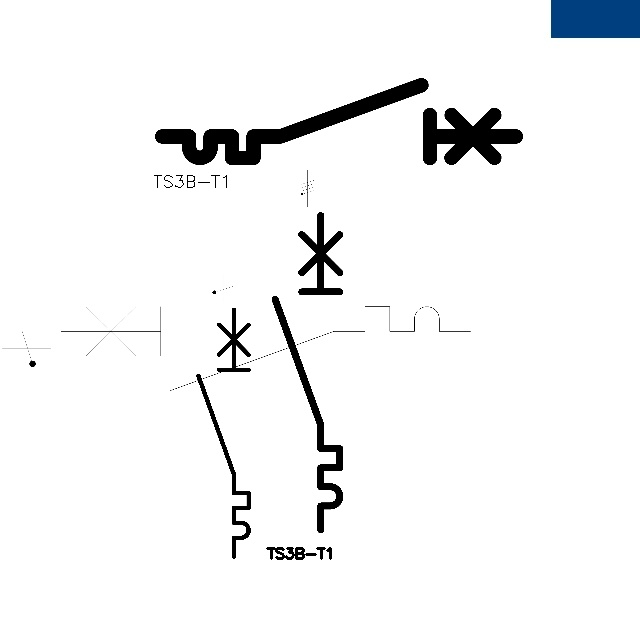interruptor_termomagnetico: (50, 296, 480, 401), (153, 76, 525, 167), (267, 207, 348, 538), (192, 303, 255, 563)
